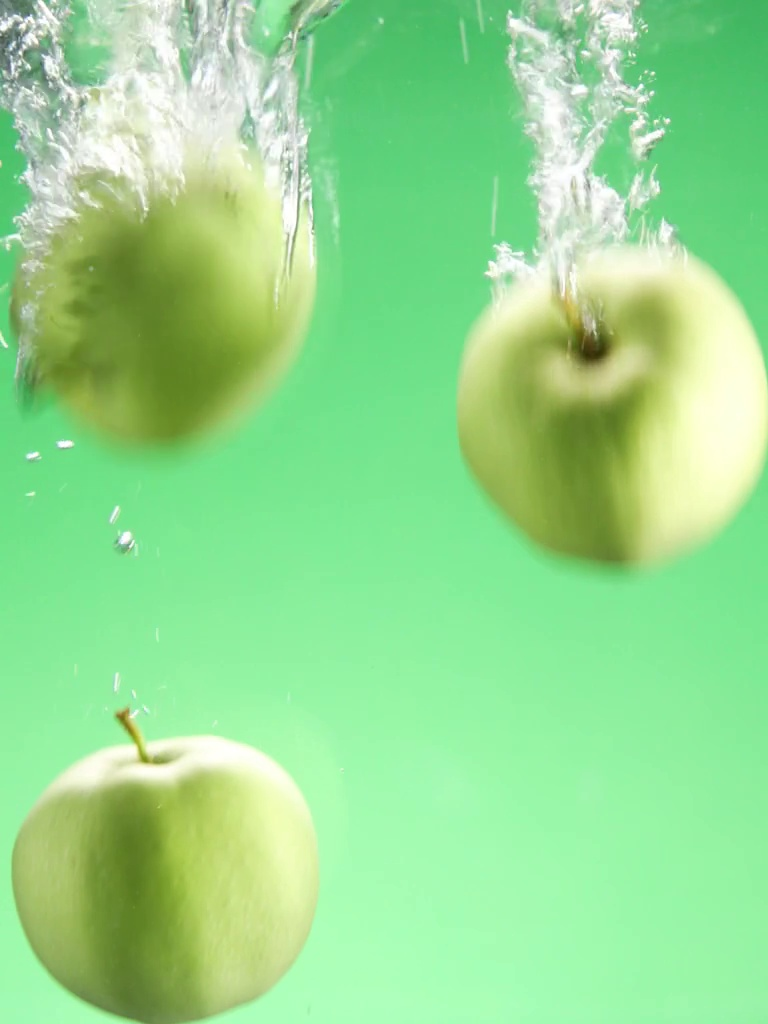Apple: (9, 83, 312, 474), (451, 236, 768, 578), (2, 703, 317, 1020)
